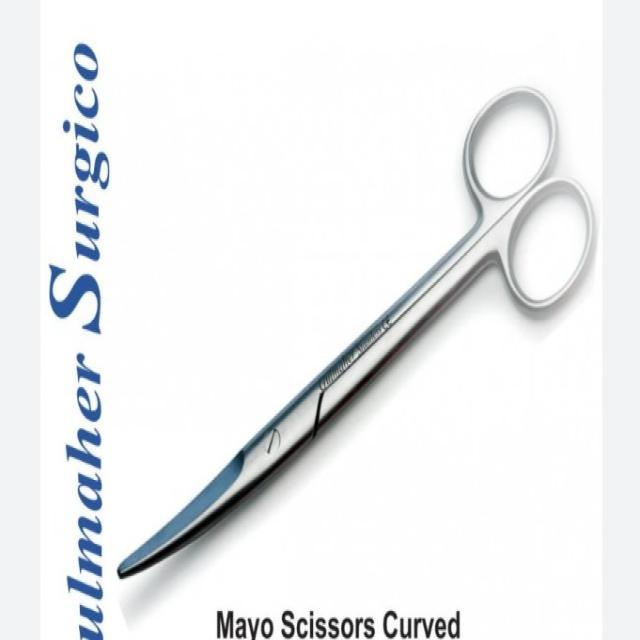Curved Mayo: (114, 85, 599, 582)
